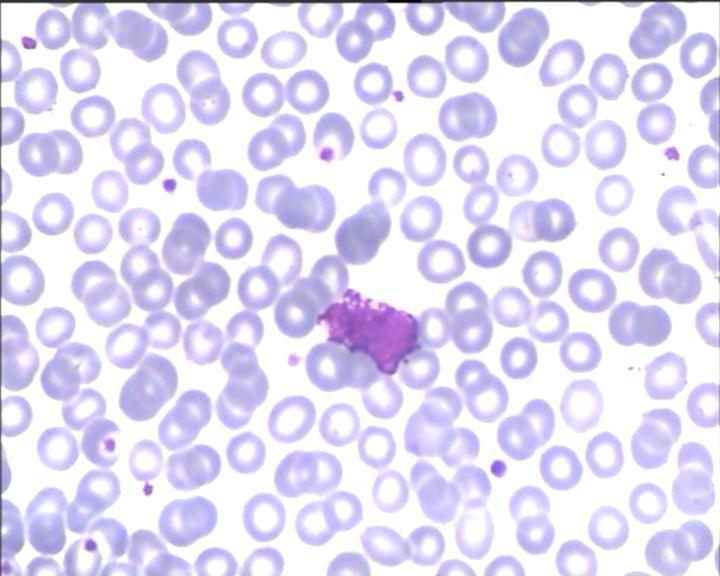baso: (311, 282, 424, 373)
